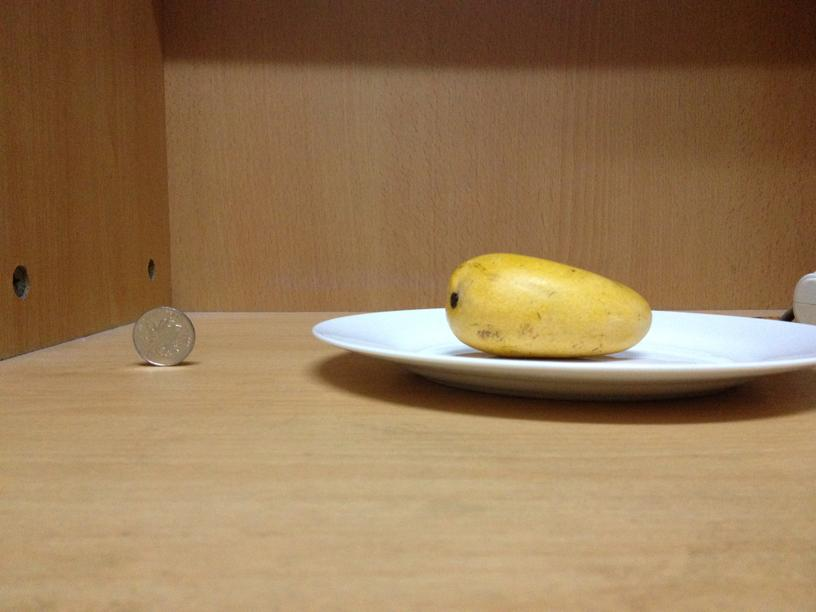coin: (133, 304, 194, 366)
mango: (445, 253, 651, 355)
